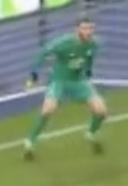goalkeeper: (20, 10, 119, 175)
